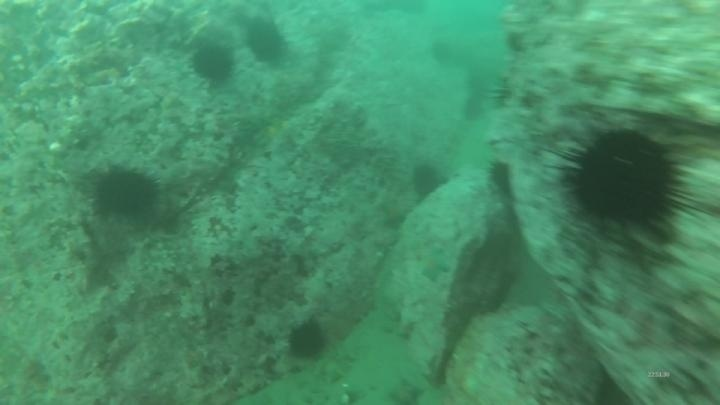echinus: (553, 122, 695, 238), (89, 164, 162, 222), (243, 18, 290, 66), (189, 41, 237, 86), (285, 318, 329, 362), (409, 161, 446, 200), (485, 158, 516, 196), (428, 38, 457, 68), (461, 71, 490, 101), (458, 98, 487, 128)
starfish: (415, 246, 452, 284), (376, 195, 411, 231), (385, 378, 427, 405)
